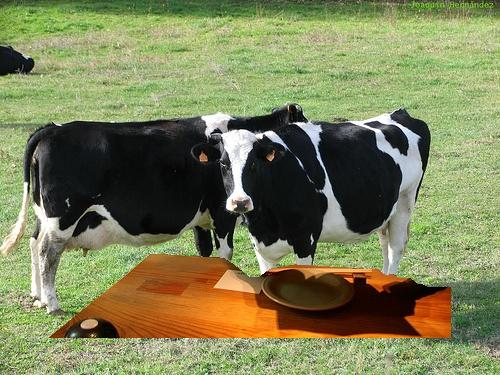tampered: (49, 255, 451, 338)
